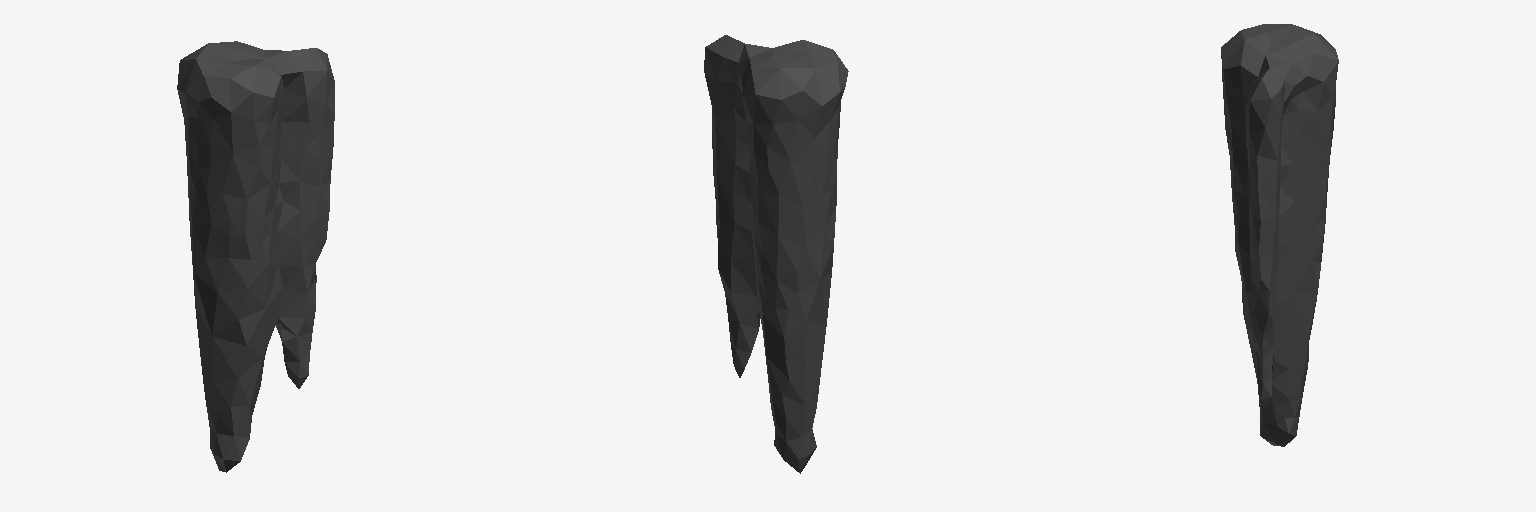
File: CaveRockPack1_High2.obj
3 renders of one model, left to right at view 1: azimuth 30°, elevation 25°; view 2: azimuth 150°, elevation 25°; view 3: azimuth 270°, elevation 25°, orthographic.
Parts seen in each view (by area): view 1: CaveRockPack1_High2; view 2: CaveRockPack1_High2; view 3: CaveRockPack1_High2.
Boxes of the visible parts, <box> form: CaveRockPack1_High2: <box>177,41,334,472</box>; CaveRockPack1_High2: <box>704,35,848,473</box>; CaveRockPack1_High2: <box>1221,24,1338,446</box>.
Bounding box in the file's own units: 7.07 × 19.64 × 5.05.